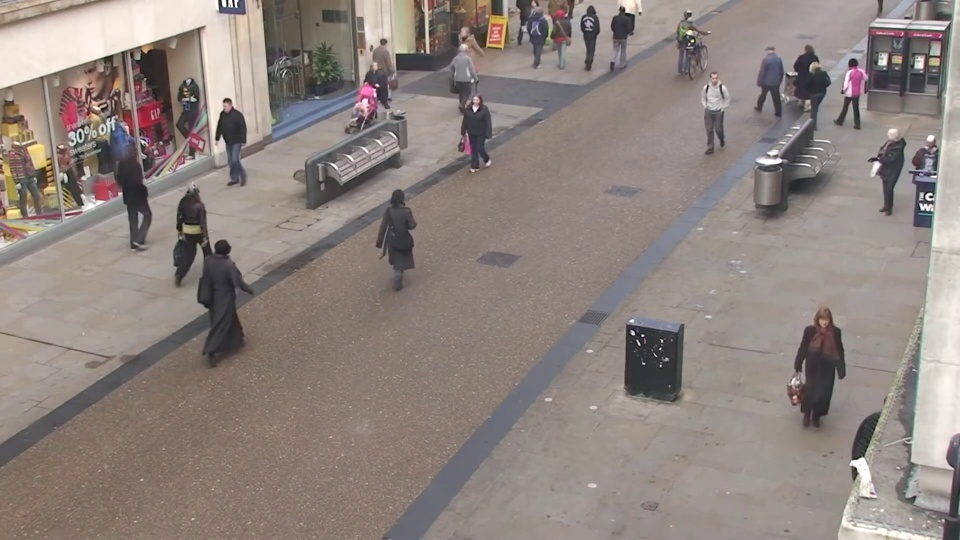pedestrian: (794, 309, 849, 457), (214, 223, 262, 345), (902, 128, 950, 231), (185, 168, 228, 276), (863, 127, 907, 228), (383, 179, 422, 292), (124, 137, 166, 236), (206, 101, 242, 190), (828, 53, 863, 135), (459, 94, 490, 183), (795, 57, 827, 138), (696, 71, 725, 155), (353, 58, 382, 137), (788, 38, 818, 114), (750, 39, 779, 115), (455, 40, 482, 114), (376, 35, 403, 107), (450, 25, 476, 95), (679, 6, 703, 72), (538, 12, 561, 79), (526, 3, 549, 67), (613, 2, 635, 66), (582, 4, 604, 68)
